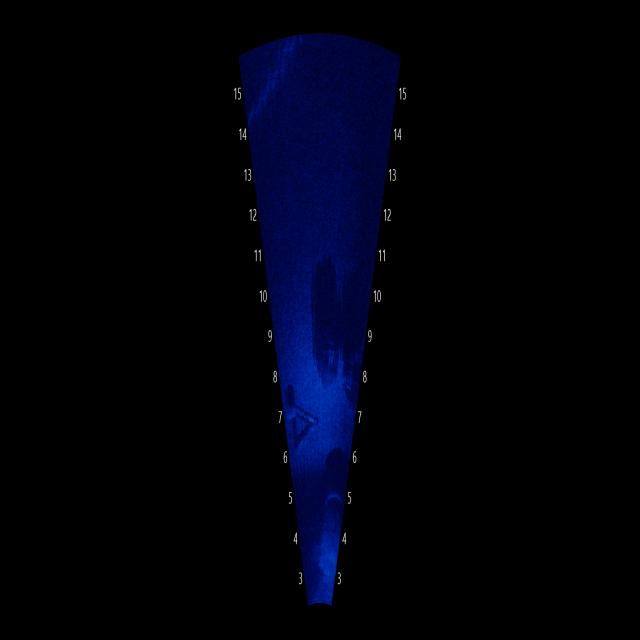square: (302, 245, 345, 388)
triangle: (284, 364, 325, 468)
